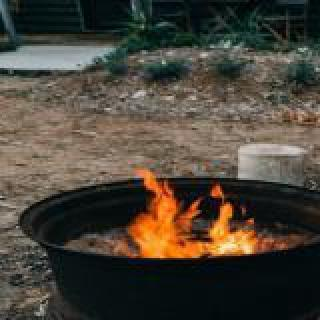fire: (122, 168, 290, 258)
